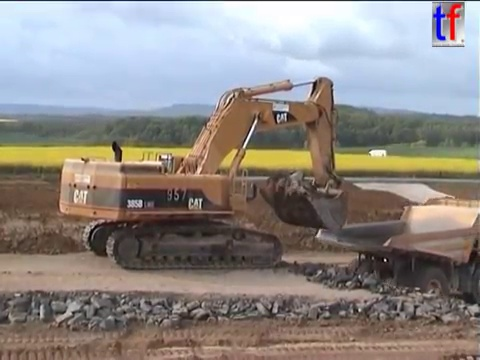excavator: (55, 75, 350, 271)
truck: (312, 194, 480, 318)
